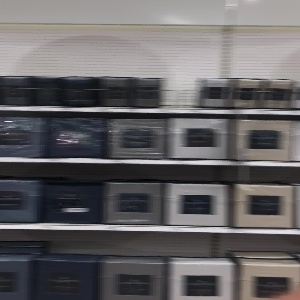void: (160, 26, 200, 108)
